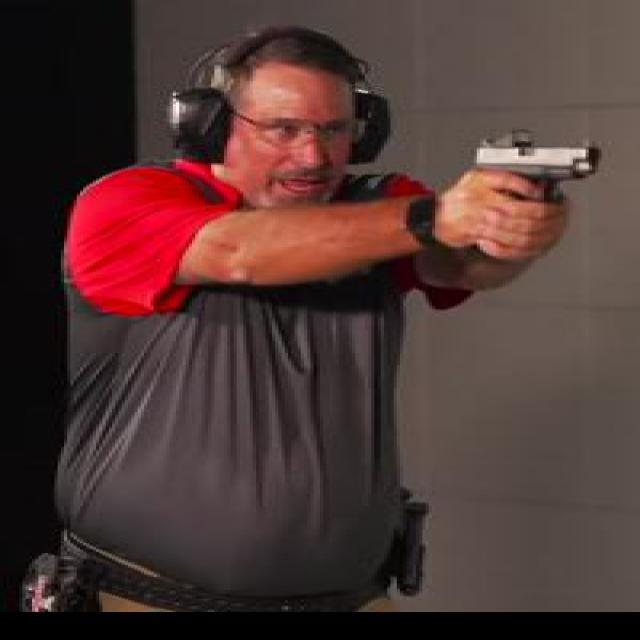gun: (468, 130, 598, 252)
